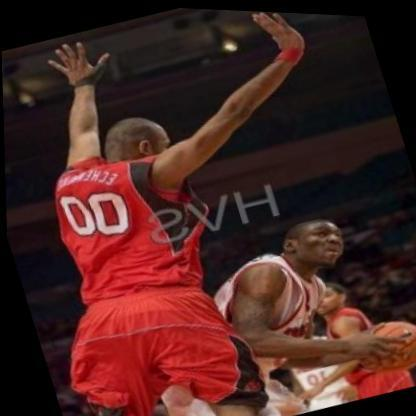basketball: (346, 303, 416, 381)
